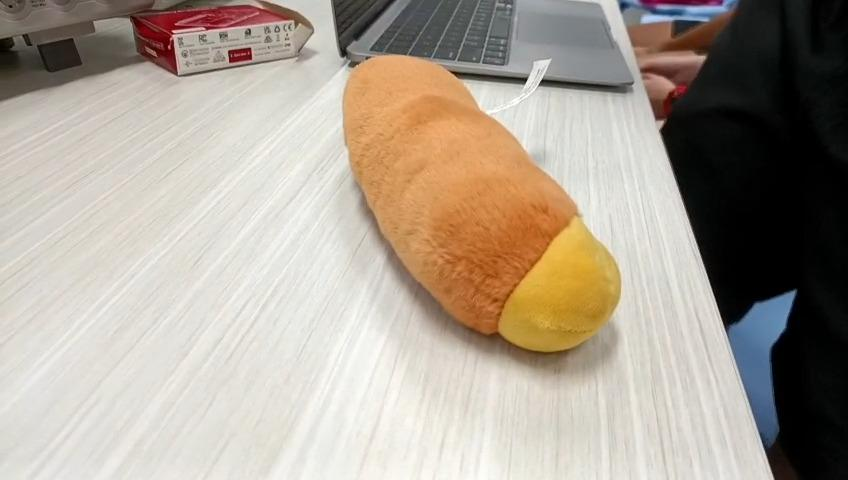hotdog: (343, 55, 622, 354)
